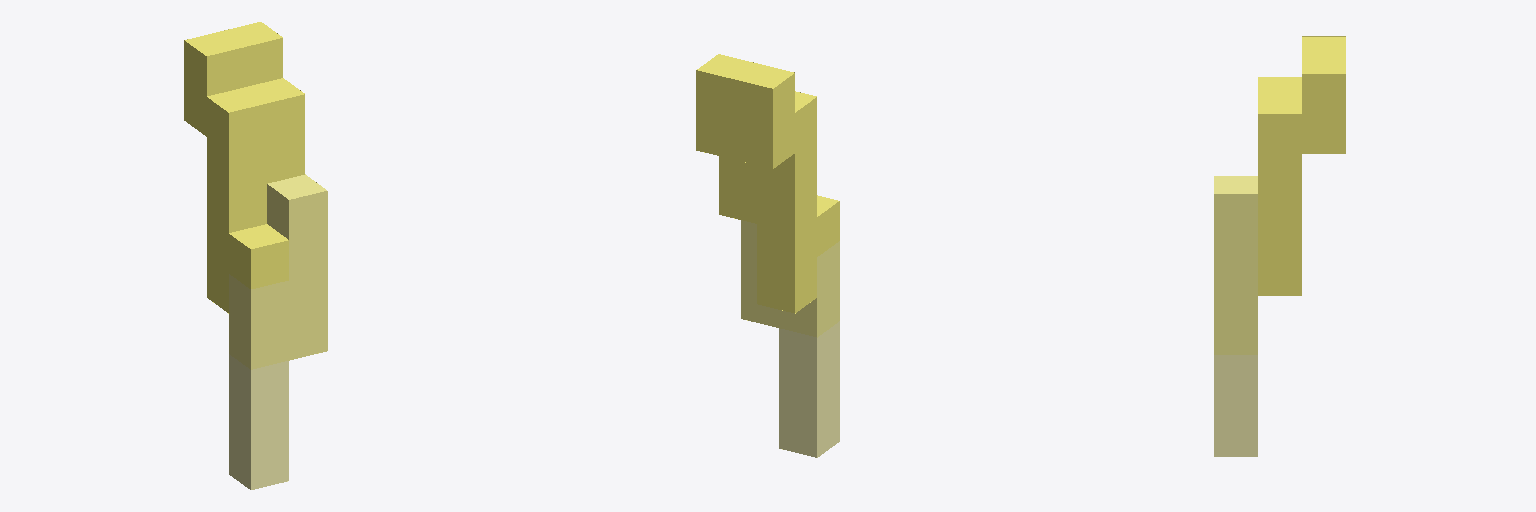
3 renders of one model, left to right at view 1: azimuth 30°, elevation 25°; view 2: azimuth 150°, elevation 25°; view 3: azimuth 270°, elevation 25°, orthographic.
Parts seen in each view (by area): view 1: ThunderLordBack; view 2: ThunderLordBack; view 3: ThunderLordBack.
Boxes of the visible parts, x1,y1,x2,y2 form: ThunderLordBack: [184, 22, 327, 489]; ThunderLordBack: [696, 54, 839, 457]; ThunderLordBack: [1214, 36, 1345, 456].
Size of the model in its own units: 2 by 10 by 3.
Materials: 1 (1 with a texture image).